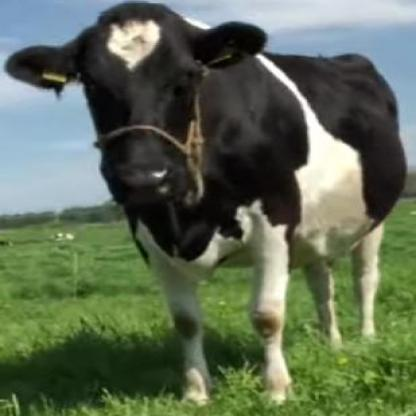cow: (7, 4, 406, 406)
